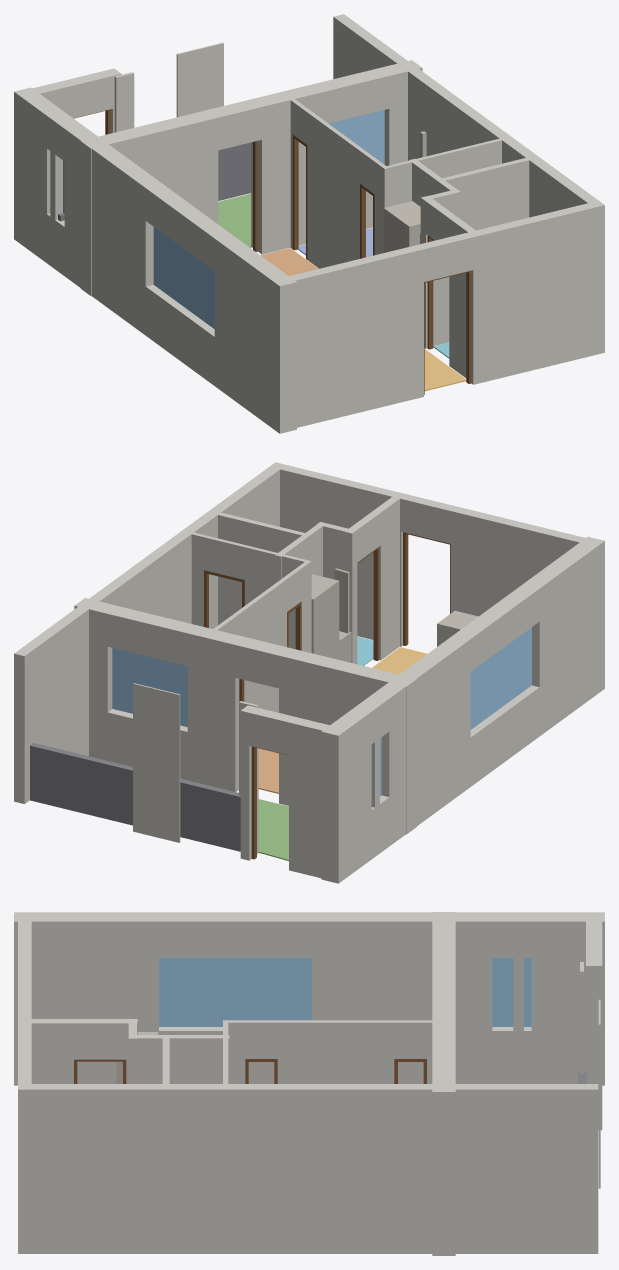
3 renders of one model, top to bottom at view 1: azimuth 30°, elevation 25°; view 2: azimuth 150°, elevation 25°; view 3: azimuth 270°, elevation 25°, orthographic. The views are drawn at different scales.
Parts seen in each view (by area): view 1: walls, window_3, railings, furniture_1_closet, window_0, floor_6_Outdoor, door_7, floor_2_Kitchen, floor_0_Living_Room, door_1, door_9; view 2: walls, railings, window_3, window_0, furniture_1_closet, floor_6_Outdoor, floor_0_Living_Room, door_4, door_1, floor_2_Kitchen, furniture_2_closet, furniture_6_appliance (+1 smaller); view 3: walls, window_3, window_8, window_10.
Part boxes in pixels (bbox=[...]): walls: bbox=[14, 14, 604, 433]; window_3: bbox=[153, 227, 214, 328]; railings: bbox=[58, 142, 251, 221]; furniture_1_closet: bbox=[383, 201, 420, 252]; window_0: bbox=[329, 110, 384, 164]; floor_6_Outdoor: bbox=[218, 193, 251, 247]; door_7: bbox=[292, 135, 307, 259]; floor_2_Kitchen: bbox=[424, 349, 466, 391]; floor_0_Living_Room: bbox=[261, 248, 318, 275]; door_1: bbox=[424, 270, 471, 394]; door_9: bbox=[360, 184, 374, 258]; walls: bbox=[14, 462, 604, 883]; railings: bbox=[30, 743, 372, 851]; window_3: bbox=[470, 627, 531, 729]; window_0: bbox=[112, 648, 187, 726]; furniture_1_closet: bbox=[311, 574, 339, 659]; floor_6_Outdoor: bbox=[258, 799, 288, 860]; floor_0_Living_Room: bbox=[258, 748, 278, 793]; door_4: bbox=[357, 547, 379, 660]; door_1: bbox=[403, 532, 450, 645]; floor_2_Kitchen: bbox=[372, 647, 427, 674]; furniture_2_closet: bbox=[334, 568, 349, 633]; furniture_6_appliance: bbox=[437, 610, 478, 646]; walls: bbox=[14, 912, 604, 1255]; window_3: bbox=[159, 958, 311, 1026]; window_8: bbox=[492, 958, 513, 1026]; window_10: bbox=[524, 958, 531, 1026].
Size of the model in its own units: 6.34 by 2.72 by 8.81.
